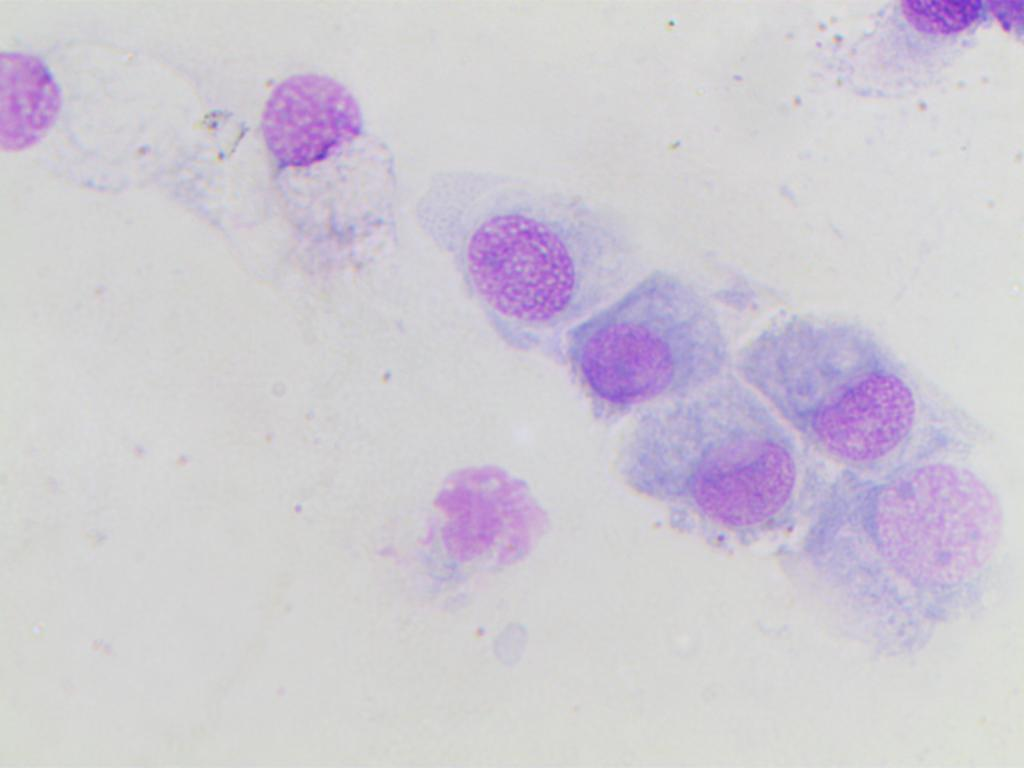epithelial: (413, 162, 581, 325), (861, 466, 1016, 592), (433, 454, 560, 593), (878, 0, 1024, 50)
goblet_cell: (0, 37, 216, 199), (733, 309, 922, 465), (250, 58, 405, 248), (619, 397, 804, 531), (565, 282, 736, 426)
